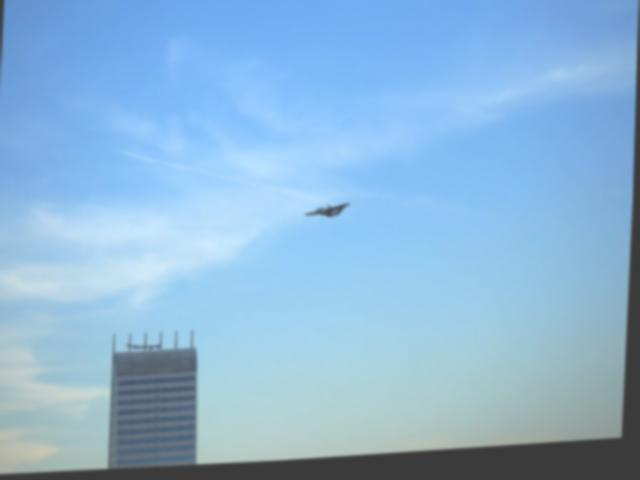plane: (303, 205, 353, 224)
